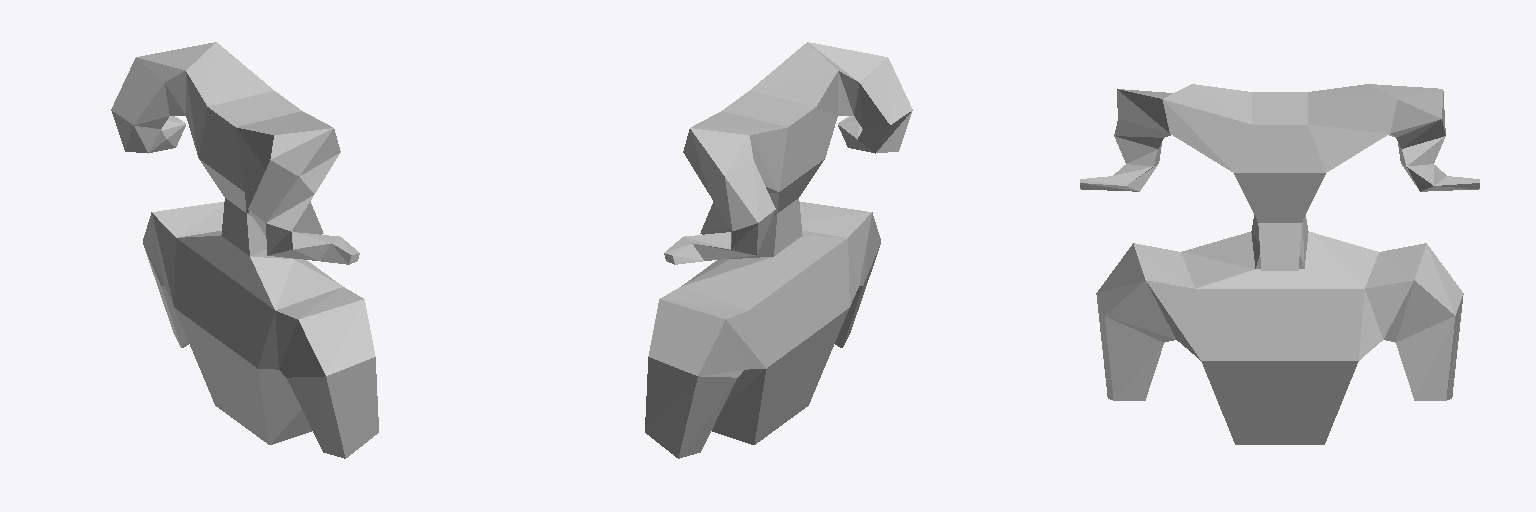
Rendered from Monter.obj.
3 views of the same model, side by side, from view 1: azimuth 30°, elevation 25°; view 2: azimuth 150°, elevation 25°; view 3: azimuth 270°, elevation 25° (orthographic).
Parts seen in each view (by area): view 1: MonsterMesh; view 2: MonsterMesh; view 3: MonsterMesh.
Part boxes in pixels (x1,y1,x2,y2): MonsterMesh: (111,42,378,458); MonsterMesh: (645,42,912,458); MonsterMesh: (1080,84,1479,444).
Bounding box in the file's own units: 3.6 × 8.46 × 9.21.